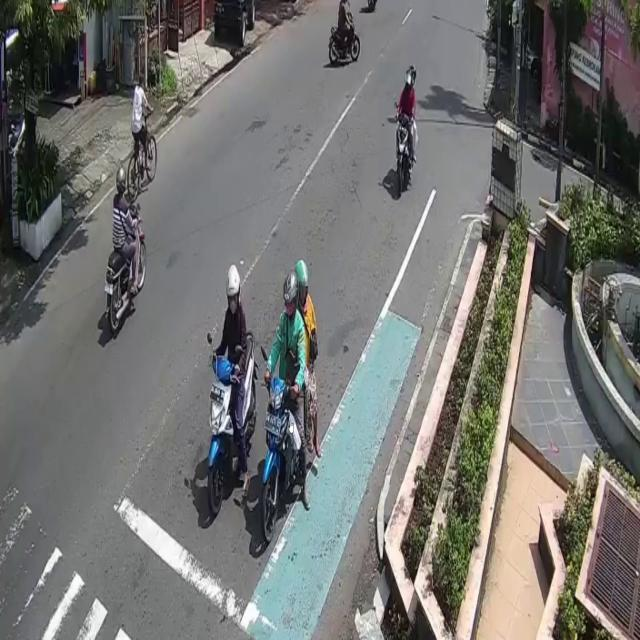motorbike: (210, 324, 259, 514), (260, 371, 312, 548), (104, 201, 145, 336), (328, 13, 361, 68), (396, 111, 412, 198)
